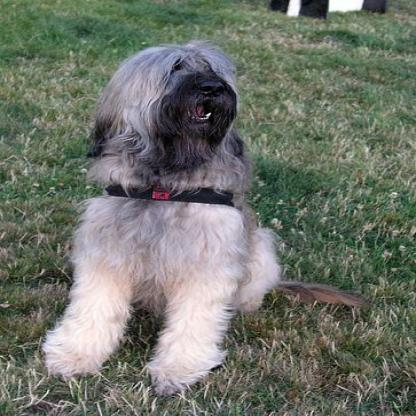briard: (26, 30, 372, 404)
